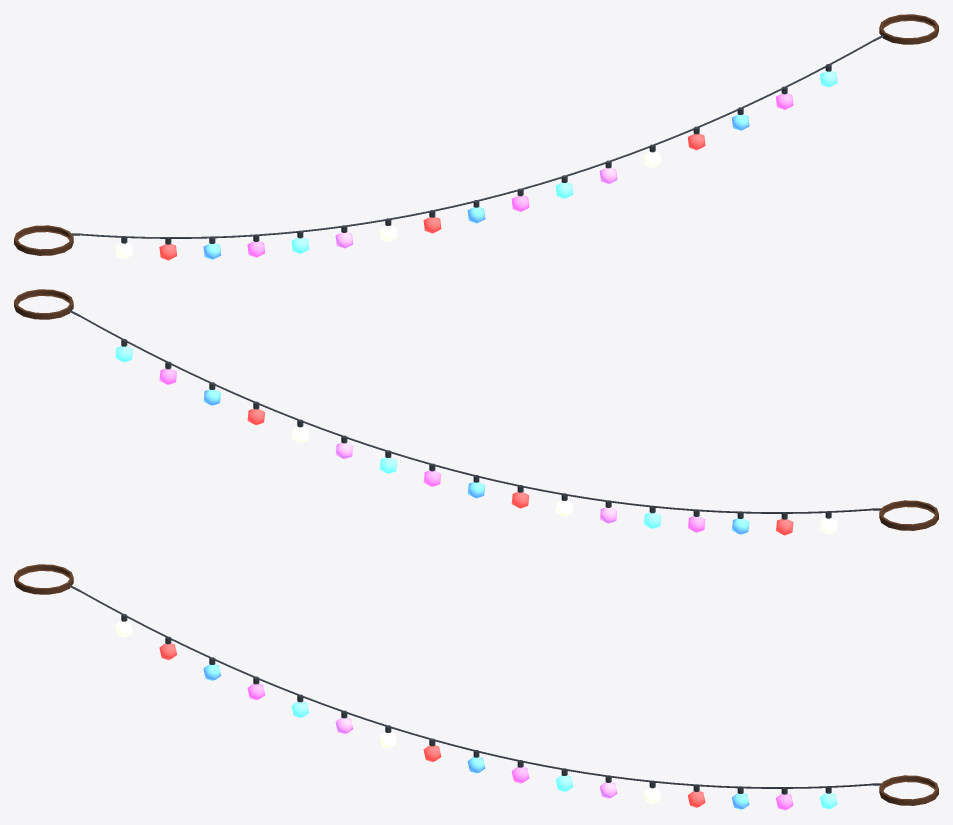
Rendered from varal_lampadas_10m.glb.
The picture shows the model from 3 angles, top to bottom: view 1: azimuth 30°, elevation 25°; view 2: azimuth 150°, elevation 25°; view 3: azimuth 330°, elevation 25°; orthographic projection.
Parts seen in each view (by area): view 1: varal_lampadas_10m, lampadas_a, lampadas_b; view 2: varal_lampadas_10m, lampadas_a, lampadas_b; view 3: varal_lampadas_10m, lampadas_a, lampadas_b.
Boxes of the visible parts, x1,y1,x2,y2 form: varal_lampadas_10m: (14, 14, 938, 255); lampadas_a: (115, 64, 837, 259); lampadas_b: (159, 86, 793, 260); varal_lampadas_10m: (14, 289, 938, 530); lampadas_a: (115, 339, 837, 534); lampadas_b: (159, 361, 793, 535); varal_lampadas_10m: (14, 564, 938, 805); lampadas_a: (115, 614, 837, 809); lampadas_b: (159, 636, 793, 810).
Size of the model in its own units: 10.6 by 1.01 by 0.585.
7 materials, 1 textured.
